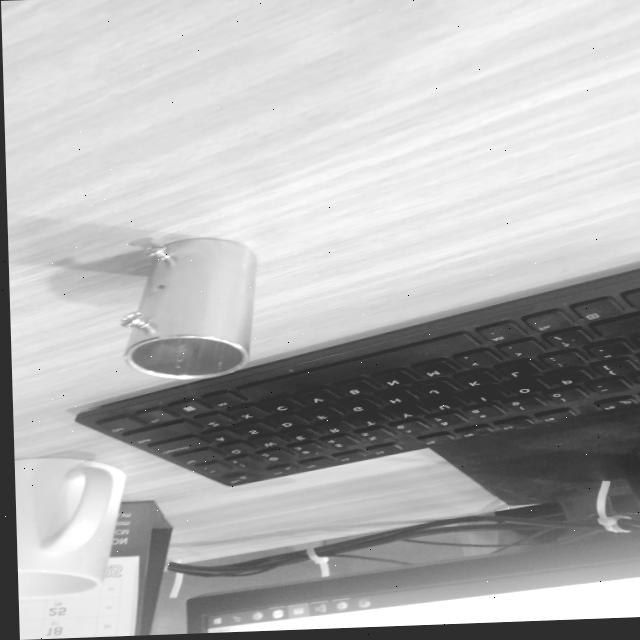Co_Lon: (117, 230, 258, 384)
